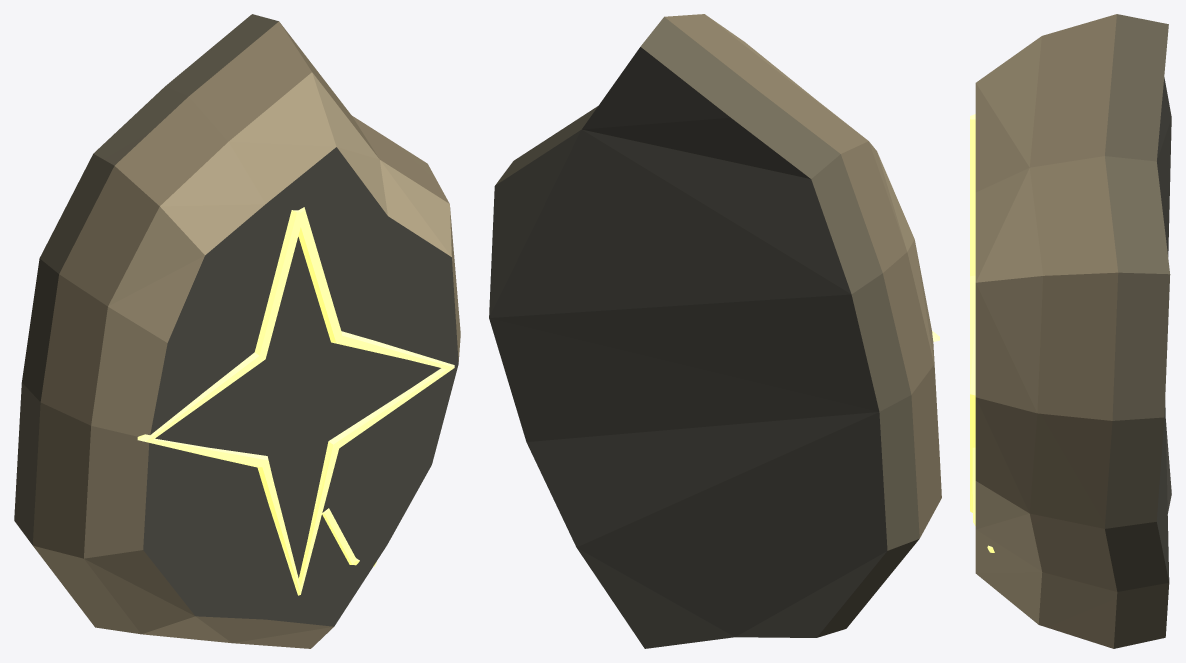
File: FERNSTONE_LIGHT.hi.glb
3 views of the same model, side by side, from view 1: azimuth 30°, elevation 25°; view 2: azimuth 150°, elevation 25°; view 3: azimuth 270°, elevation 25° (orthographic). The views are drawn at different scales.
Visible parts, largest first — view 1: Body_Mesh; view 2: Body_Mesh; view 3: Body_Mesh.
Part boxes in pixels (bbox=[...]): Body_Mesh: bbox=[14, 14, 460, 648]; Body_Mesh: bbox=[489, 14, 941, 648]; Body_Mesh: bbox=[970, 14, 1171, 648].
Bounding box in the file's own units: 0.2513 × 0.3648 × 0.1048.
1 material, 1 textured.
